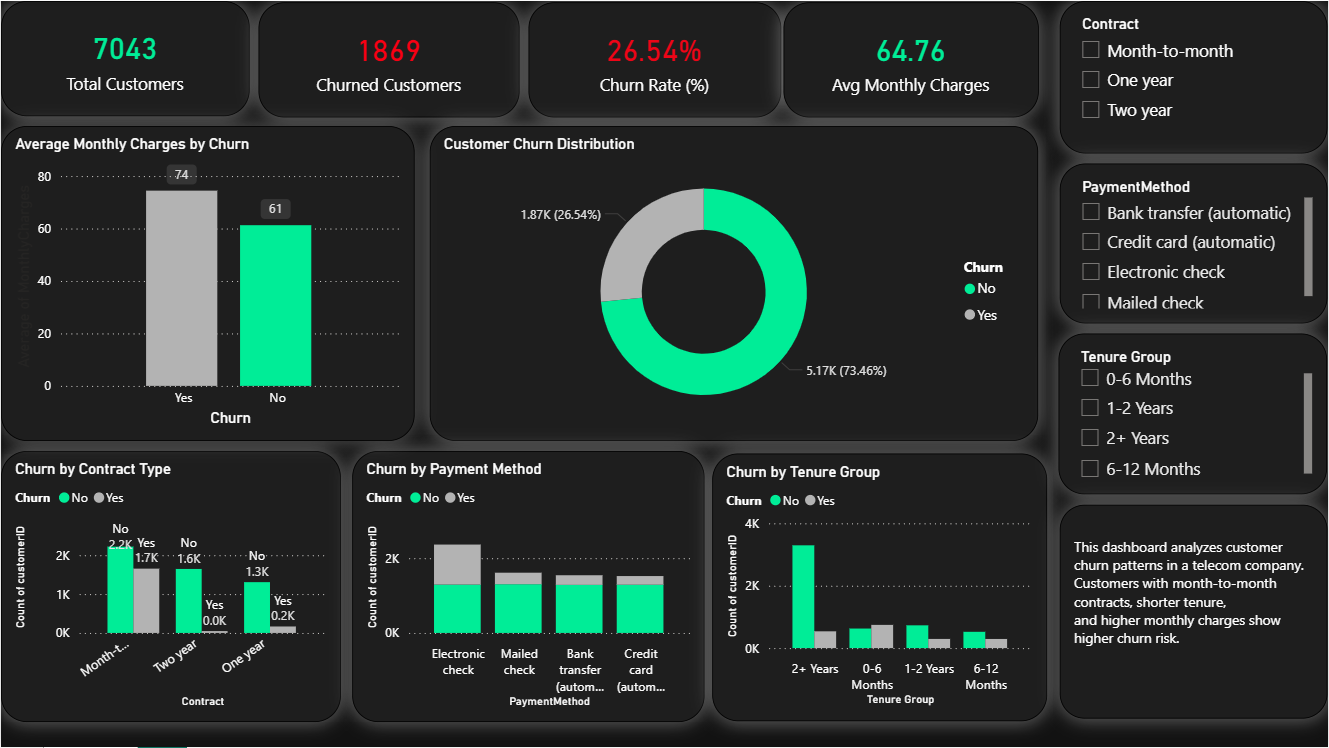

The page's visual inventory and layout, read from the dashboard file:
{"tool":"powerbi","page":{"name":"Page 1","canvas":[1280,720],"ordinal":0},"visuals":[{"type":"card","fields":{"Values":["telecom.Total Customers"]},"box":[0,0,240.1,111],"z":0},{"type":"card","fields":{"Values":["telecom.Churned Customers"]},"box":[248.5,1.2,252.1,111],"z":1000},{"type":"card","fields":{"Values":["telecom.Churn Rate (%)"]},"box":[509.1,1.2,243.7,111],"z":2000},{"type":"card","fields":{"Values":["telecom.Avg Monthly Charges"]},"box":[755.2,1.2,246.1,111],"z":3000},{"type":"donutChart","title":"Customer Churn Distribution","fields":{"Category":["telecom.Churn"],"Y":["CountNonNull(telecom.customerID)"]},"box":[413.8,120.6,587.5,304],"z":4000},{"type":"clusteredColumnChart","title":"Churn by Contract Type","fields":{"Category":["telecom.Contract"],"Y":["CountNonNull(telecom.customerID)"],"Series":["telecom.Churn"]},"box":[0,434.3,328.2,261.8],"z":5000},{"type":"columnChart","title":"Churn by Payment Method","fields":{"Category":["telecom.PaymentMethod"],"Y":["CountNonNull(telecom.customerID)"],"Series":["telecom.Churn"]},"box":[339,434.3,340.2,261.8],"z":6000},{"type":"clusteredColumnChart","title":"Churn by Tenure Group","fields":{"Category":["telecom.Tenure Group"],"Y":["CountNonNull(telecom.customerID)"],"Series":["telecom.Churn"]},"box":[686,436.6,322.8,258],"z":7000},{"type":"slicer","fields":{"Values":["telecom.Contract"]},"box":[1021.9,0,258.2,147.2],"z":8000},{"type":"slicer","fields":{"Values":["telecom.PaymentMethod"]},"box":[1021.9,156.2,258.2,154.4],"z":9000},{"type":"slicer","fields":{"Values":["telecom.Tenure Group"]},"box":[1021.2,321.4,258.8,155],"z":10000},{"type":"textbox","box":[1021.9,486.2,258.2,206.3],"z":11000},{"type":"clusteredColumnChart","title":"Average Monthly Charges by Churn","fields":{"Category":["telecom.Churn"],"Y":["Avg(telecom.MonthlyCharges)"]},"box":[0,120.6,399.3,304],"z":12000}]}

Visuals, with their boxes in screenshot pixels (x1, y1, x2, y2), scaled from the page's 1280x720 canvas onto the 1329x748 screenshot:
card - telecom.Total Customers: bbox=(0, 0, 249, 115)
card - telecom.Churned Customers: bbox=(258, 1, 520, 117)
card - telecom.Churn Rate (%): bbox=(529, 1, 782, 117)
card - telecom.Avg Monthly Charges: bbox=(784, 1, 1040, 117)
"Customer Churn Distribution" donutChart: bbox=(430, 125, 1040, 441)
"Churn by Contract Type" clusteredColumnChart: bbox=(0, 451, 341, 723)
"Churn by Payment Method" columnChart: bbox=(352, 451, 705, 723)
"Churn by Tenure Group" clusteredColumnChart: bbox=(712, 454, 1047, 722)
slicer - telecom.Contract: bbox=(1061, 0, 1328, 153)
slicer - telecom.PaymentMethod: bbox=(1061, 162, 1328, 323)
slicer - telecom.Tenure Group: bbox=(1060, 334, 1328, 495)
textbox: bbox=(1061, 505, 1328, 719)
"Average Monthly Charges by Churn" clusteredColumnChart: bbox=(0, 125, 415, 441)
